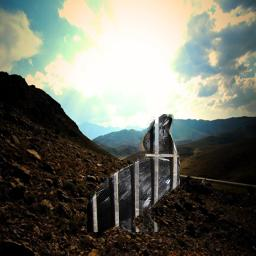Crow: (87, 114, 180, 232)
